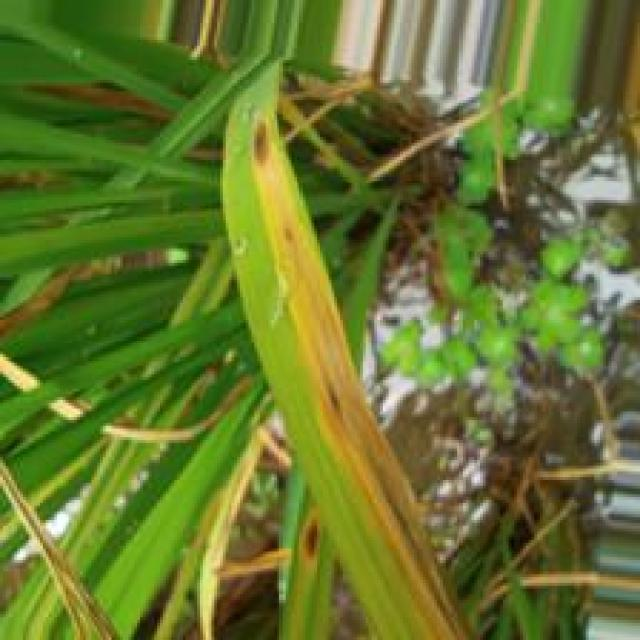Narrow_Brown_Leaf_Spot: (243, 113, 479, 640)
